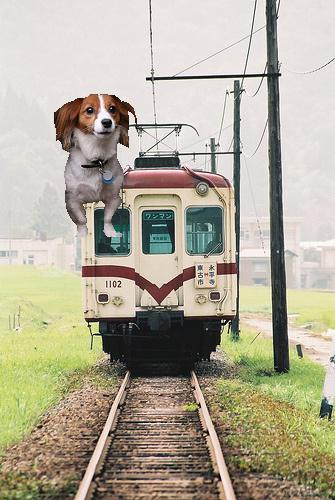tampered: (55, 95, 137, 237)
